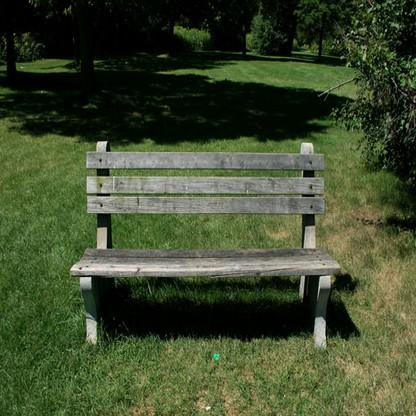obstacle: (64, 131, 354, 352)
